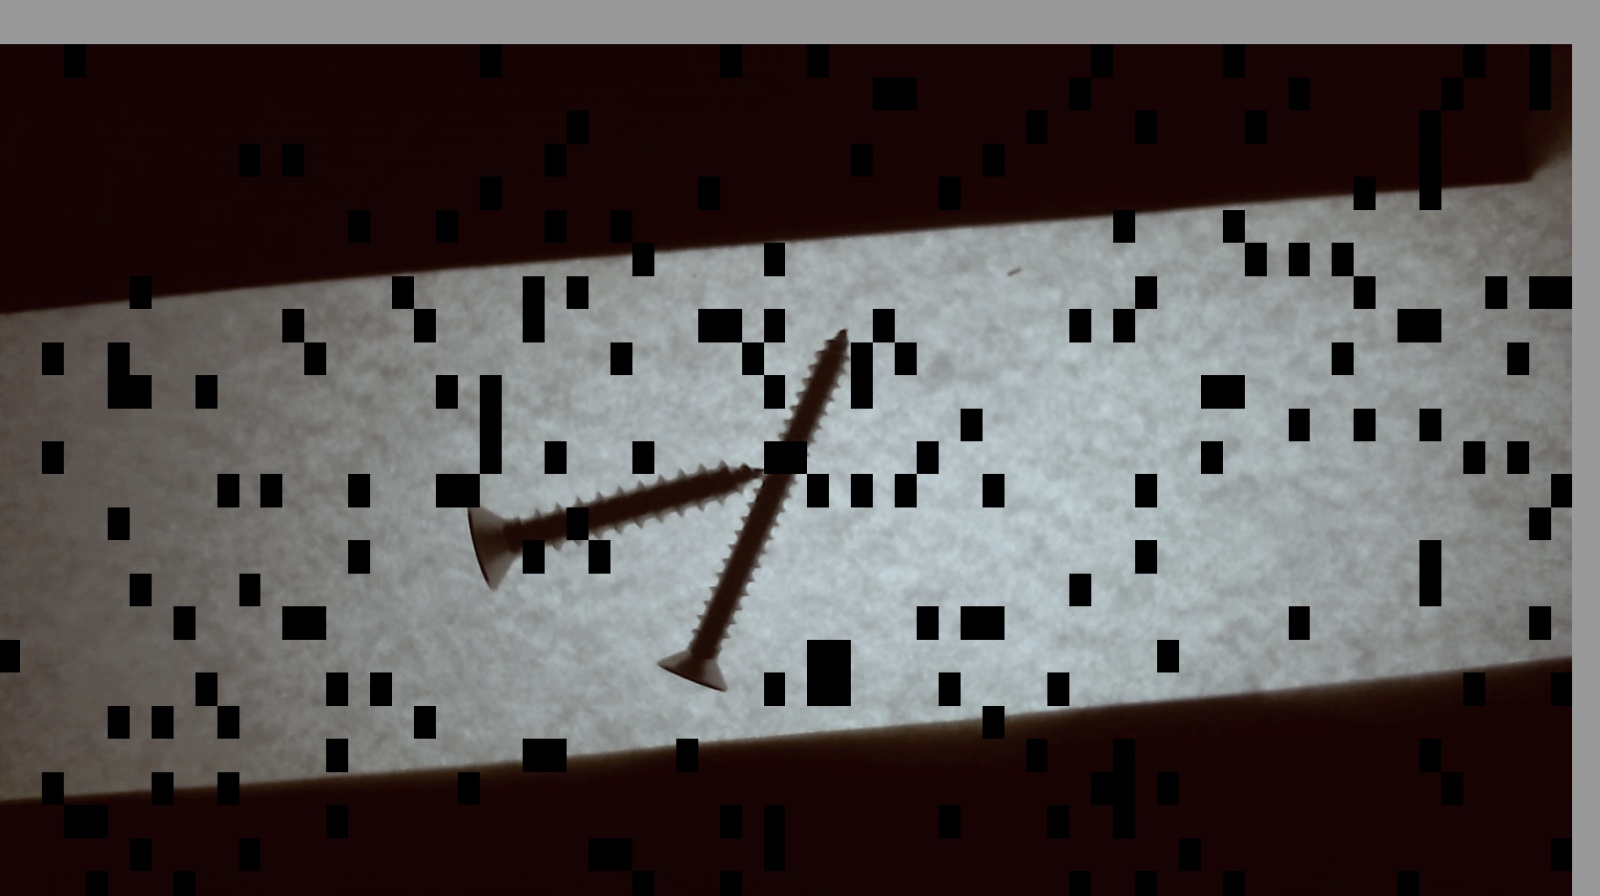S001: (456, 455, 779, 597)
S002: (643, 312, 862, 699)
